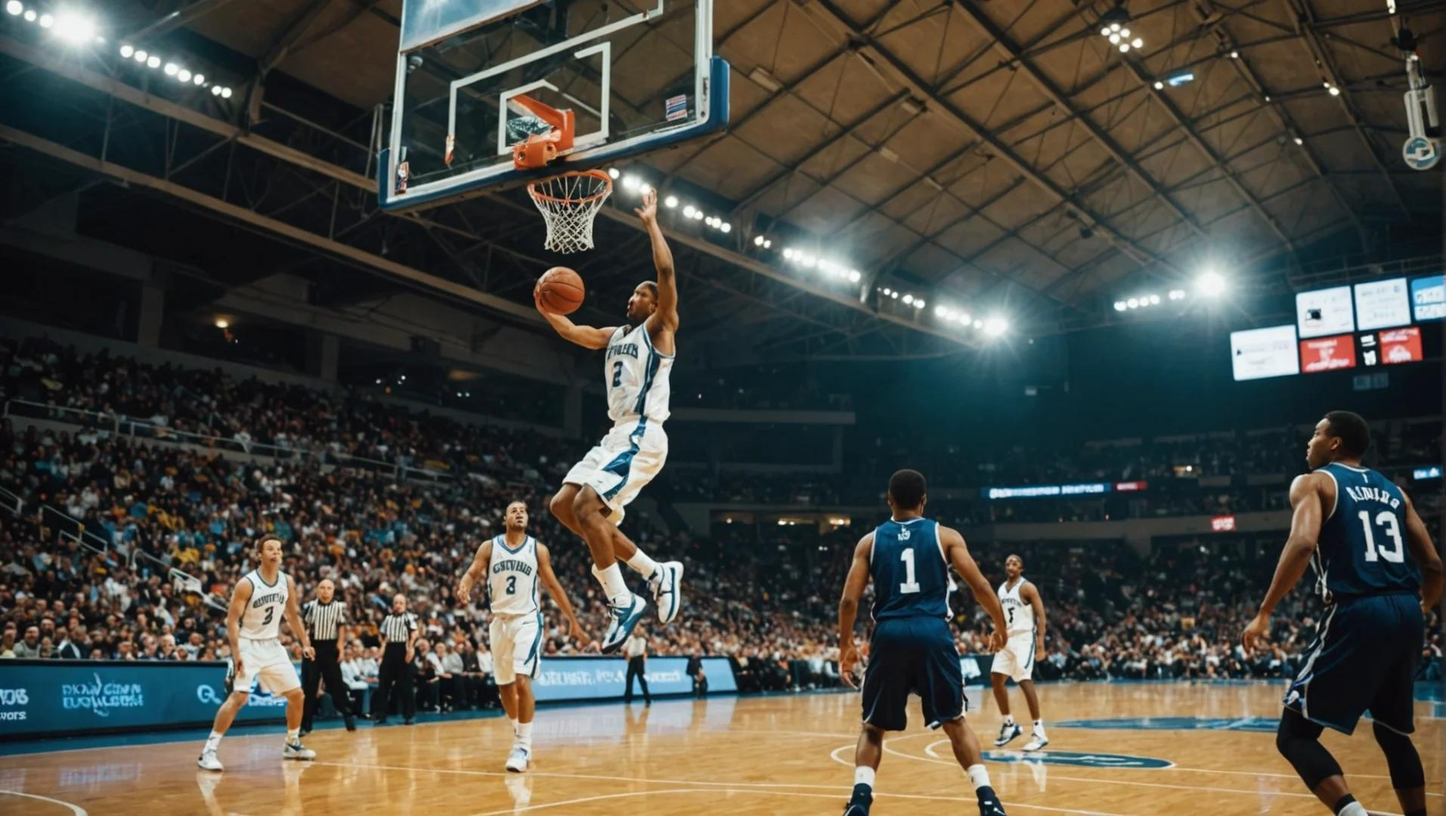basketball: (531, 263, 586, 316)
